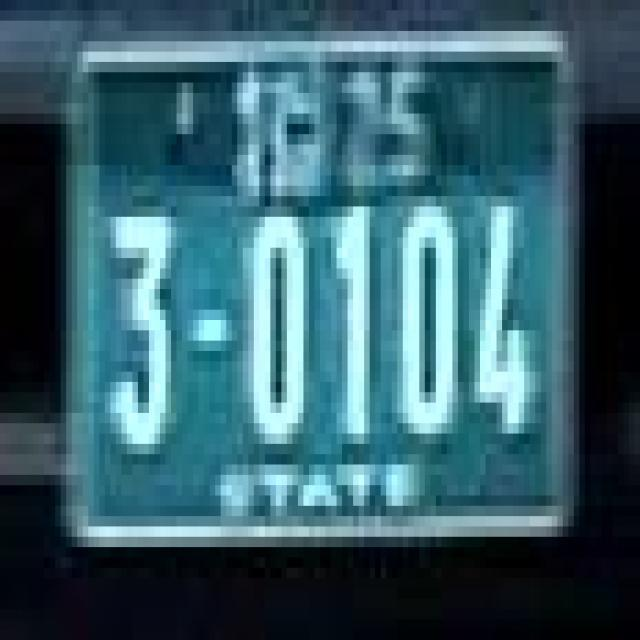State: (232, 62, 332, 210)
